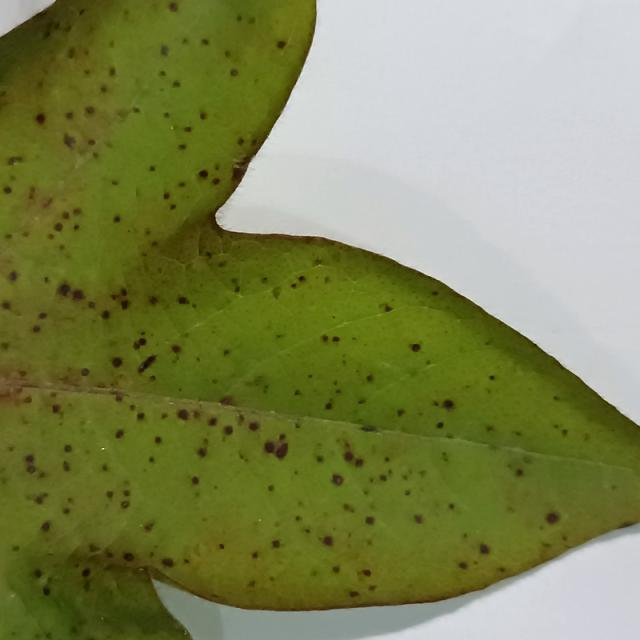Bacterial_Blight: (264, 263, 349, 307), (109, 288, 131, 310), (231, 161, 249, 185), (241, 373, 266, 389), (4, 264, 21, 286), (138, 354, 157, 373), (114, 106, 135, 121), (274, 441, 289, 459), (62, 133, 77, 149), (57, 283, 71, 297), (545, 511, 560, 524), (133, 337, 147, 350), (112, 391, 126, 403), (7, 156, 23, 166), (177, 408, 189, 421), (72, 289, 85, 301), (331, 473, 343, 486), (271, 286, 282, 300), (27, 186, 37, 201), (111, 356, 123, 368), (478, 543, 490, 555), (322, 535, 334, 547), (35, 112, 46, 125), (442, 399, 455, 410), (264, 441, 275, 454), (359, 425, 378, 432), (35, 494, 47, 505), (161, 558, 174, 568), (220, 396, 233, 406), (159, 44, 169, 57), (40, 521, 51, 532), (223, 425, 234, 436), (25, 464, 36, 475), (248, 421, 260, 431), (114, 429, 125, 439), (24, 454, 35, 464), (197, 447, 207, 458), (123, 552, 134, 562), (171, 344, 182, 354), (198, 169, 209, 179), (344, 451, 354, 462), (177, 296, 189, 305), (51, 404, 61, 414), (365, 515, 375, 525), (101, 310, 111, 320), (208, 417, 218, 427), (144, 522, 154, 532), (413, 514, 423, 524), (81, 568, 91, 578), (168, 2, 178, 12), (62, 461, 71, 472), (621, 521, 634, 528), (1, 301, 11, 310), (63, 444, 73, 453), (136, 412, 146, 421), (54, 222, 63, 232), (80, 368, 90, 377), (85, 106, 95, 115), (271, 539, 281, 548), (120, 500, 130, 509), (276, 40, 286, 49), (411, 343, 421, 352), (458, 561, 468, 570), (354, 457, 363, 467), (0, 342, 10, 351), (108, 66, 116, 77), (3, 186, 12, 195), (515, 468, 524, 477), (154, 436, 163, 445), (191, 476, 200, 485), (229, 68, 238, 77), (105, 490, 114, 499), (38, 312, 48, 320), (42, 587, 50, 597), (383, 304, 393, 312), (349, 590, 359, 598), (32, 325, 41, 333), (113, 215, 121, 224), (325, 401, 333, 410), (365, 374, 374, 382), (436, 421, 445, 429), (172, 80, 181, 88), (178, 143, 187, 151), (212, 178, 221, 186), (362, 569, 371, 577), (316, 454, 324, 463), (199, 112, 207, 120), (321, 334, 329, 342), (267, 484, 275, 492), (251, 551, 259, 559), (132, 106, 140, 114), (332, 565, 340, 573), (248, 580, 256, 588), (331, 336, 340, 343), (297, 275, 306, 282), (163, 192, 170, 200), (561, 428, 568, 436), (184, 126, 192, 133), (293, 389, 301, 396), (12, 545, 20, 552), (448, 503, 455, 510), (149, 165, 156, 172), (218, 543, 225, 550), (488, 374, 495, 381), (169, 204, 176, 211), (552, 395, 560, 401)
Cotton: (0, 0, 639, 639)
